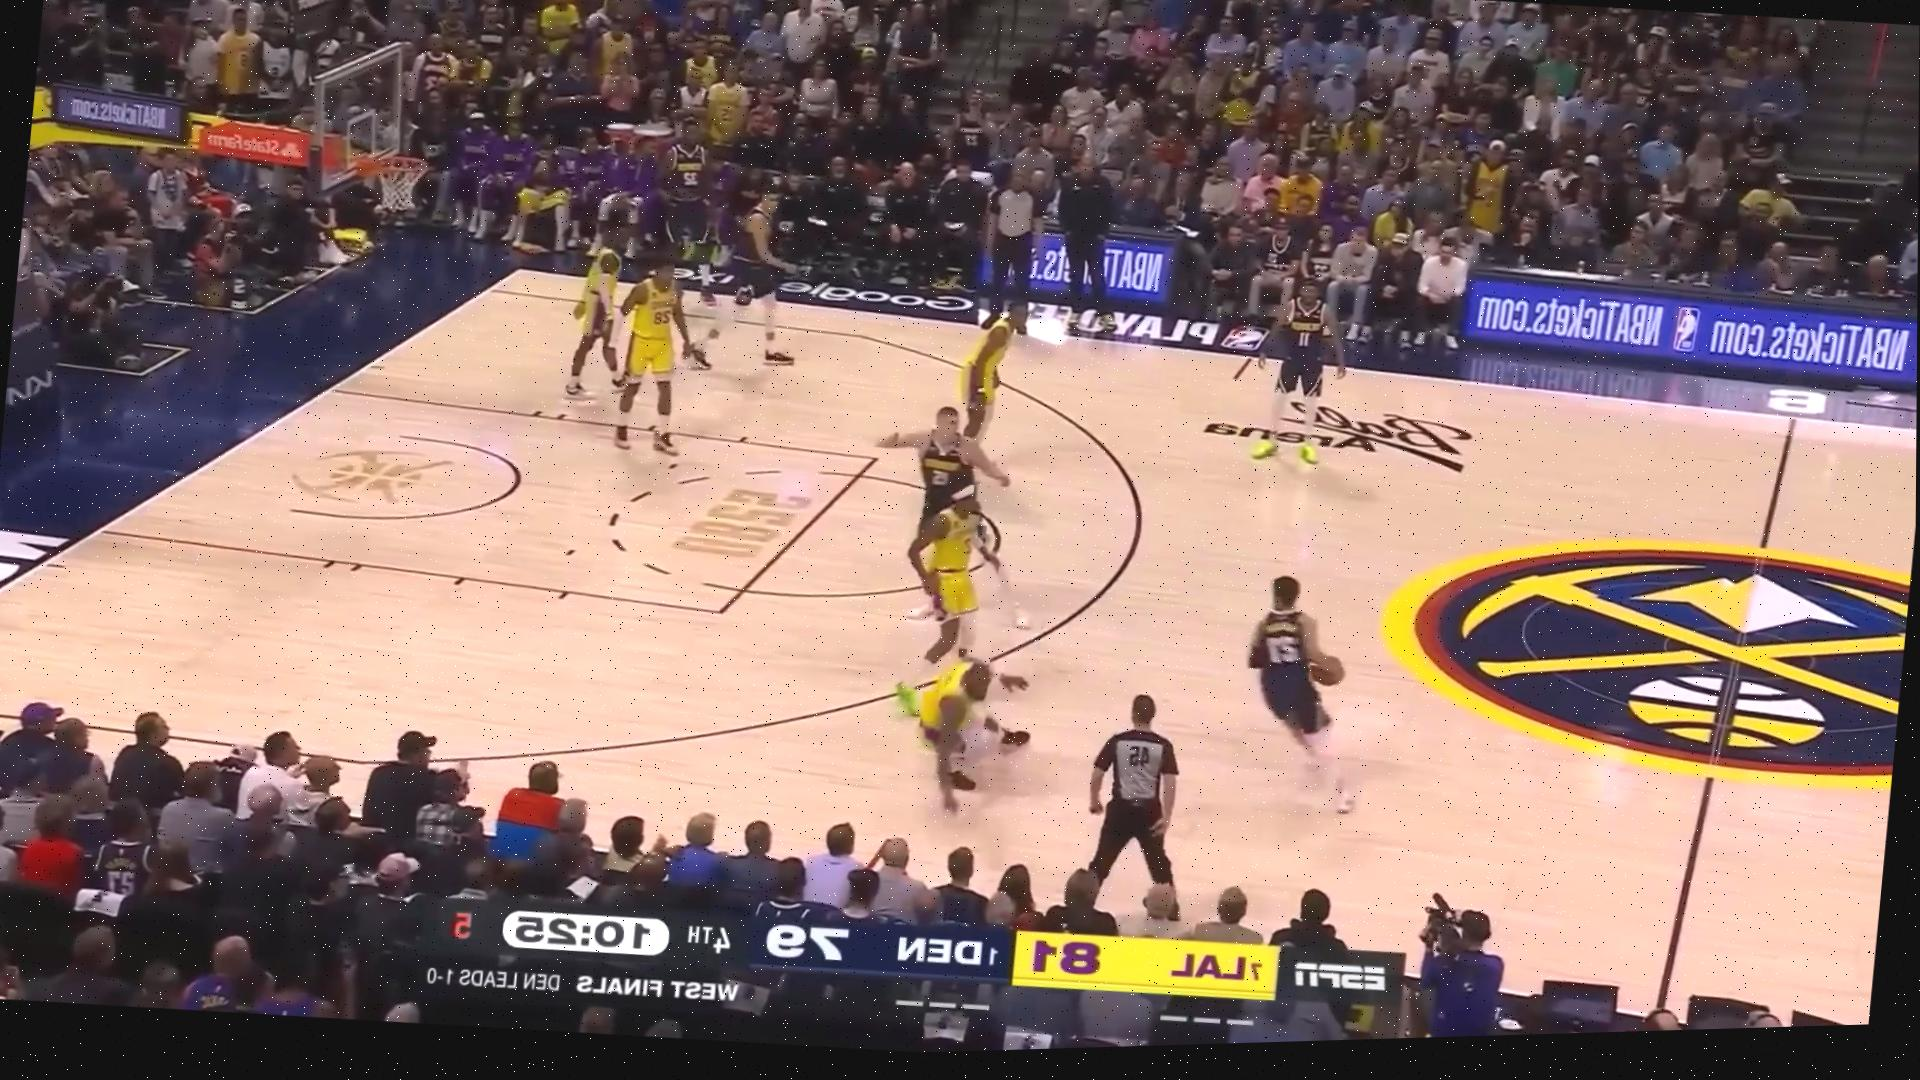no_foul: (820, 377, 1040, 663)
